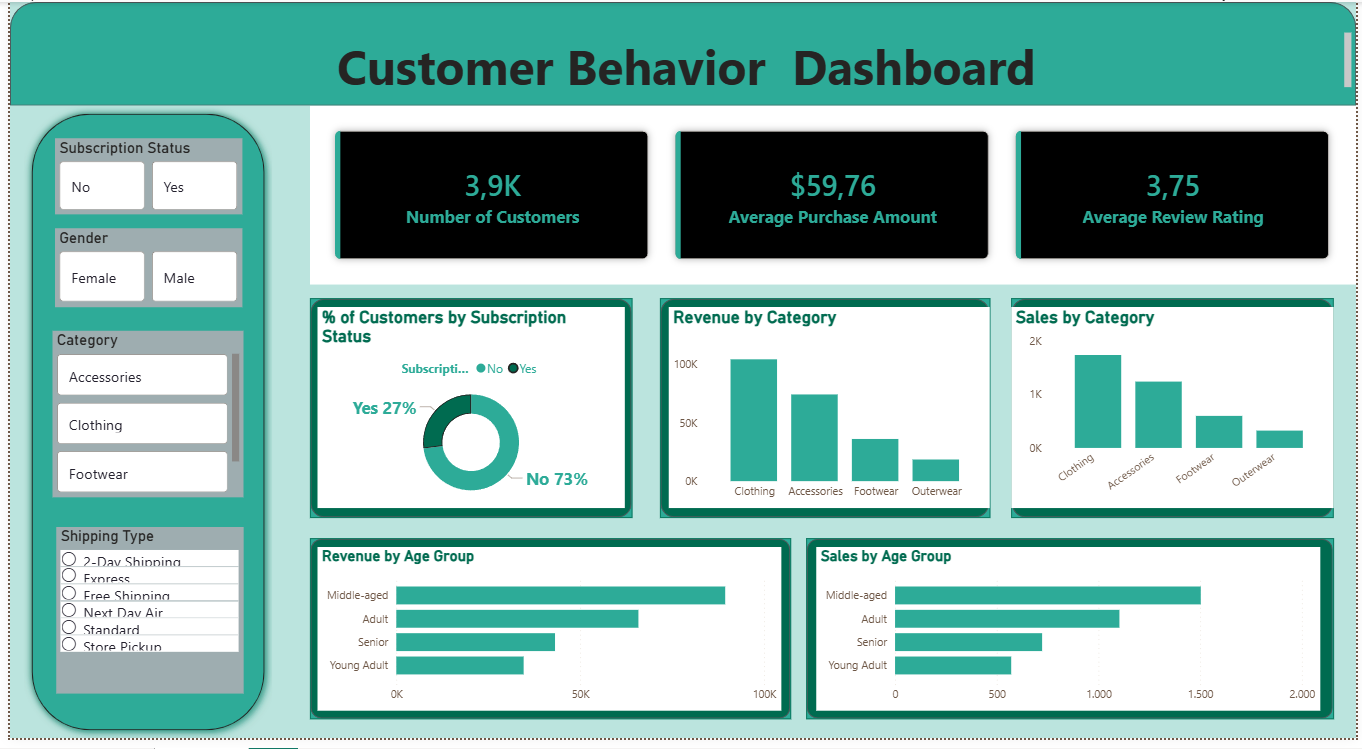

What the dashboard file says about the page in this screenshot:
{"tool":"powerbi","page":{"name":"Page 1","canvas":[1500,820],"ordinal":0},"visuals":[{"type":"cardVisual","fields":{"Data":["public customer.Number of Customers","public customer.Average Purchase Amount","public customer.Average Review Rating"]},"box":[334.2,115.6,1165.7,199.2],"z":0},{"type":"shape","box":[0,0,1499.9,115.6],"z":1000},{"type":"textbox","box":[15.3,29.2,1484.6,75.2],"z":2000},{"type":"shape","box":[334.2,330.1,359.3,245.1],"z":3000},{"type":"donutChart","title":"% of Customers by Subscription Status","fields":{"Category":["public customer.Subscription Status"],"Y":["CountNonNull(public customer.Customer ID)"]},"box":[342.6,339.8,342.6,224.2],"z":4000},{"type":"shape","box":[724.2,330.1,367.7,245.1],"z":5000},{"type":"shape","box":[1115.5,330.1,359.3,245.1],"z":6000},{"type":"clusteredColumnChart","title":"Revenue by Category","fields":{"Y":["Sum(public customer.Purchase Amount (USD))"],"Category":["public customer.Category"]},"box":[733.9,339.8,357.9,224.2],"z":7000},{"type":"clusteredColumnChart","title":"Sales by Category","fields":{"Y":["CountNonNull(public customer.Customer ID)"],"Category":["public customer.Category"]},"box":[1115.5,339.8,359.3,224.2],"z":8000},{"type":"shape","box":[15.3,115.6,277.1,704.7],"z":9000},{"type":"advancedSlicerVisual","fields":{"Values":["public customer.Gender"]},"box":[50.1,252.1,208.9,87.7],"z":10000},{"type":"listSlicer","fields":{"Values":["public customer.Shipping Type"]},"box":[51.5,584.9,208.9,185.2],"z":11000},{"type":"advancedSlicerVisual","fields":{"Values":["public customer.Category"]},"box":[47.4,366.3,213.1,185.2],"z":12000},{"type":"advancedSlicerVisual","fields":{"Values":["public customer.Subscription Status"]},"box":[50.1,151.8,208.9,85],"z":13000},{"type":"clusteredBarChart","title":"Revenue by Age Group","fields":{"Y":["Sum(public customer.Purchase Amount (USD))"],"Category":["public customer.age_group"]},"box":[384.4,607.2,437.3,182.4],"z":14000},{"type":"shape","box":[334.2,597.5,536.2,201.9],"z":15000},{"type":"shape","box":[887.1,597.5,587.7,201.9],"z":16000},{"type":"clusteredBarChart","title":"Revenue by Age Group","fields":{"Y":["Sum(public customer.Purchase Amount (USD))"],"Category":["public customer.age_group"]},"box":[342.6,607.2,516.7,182.4],"z":17000},{"type":"clusteredBarChart","title":"Sales by Age Group","fields":{"Y":["CountNonNull(public customer.Customer ID)"],"Category":["public customer.age_group"]},"box":[898.3,607.2,561.2,182.4],"z":18000}]}

Visuals, with their boxes in screenshot pixels (x1, y1, x2, y2), scaled from the page's 1500x820 canvas onto the 1362x749 screenshot:
cardVisual - public customer.Number of Customers x public customer.Average Purchase Amount: select_region(303, 106, 1361, 288)
shape: select_region(0, 0, 1361, 106)
textbox: select_region(14, 27, 1361, 95)
shape: select_region(303, 302, 630, 525)
"% of Customers by Subscription Status" donutChart: select_region(311, 310, 622, 515)
shape: select_region(658, 302, 991, 525)
shape: select_region(1013, 302, 1339, 525)
"Revenue by Category" clusteredColumnChart: select_region(666, 310, 991, 515)
"Sales by Category" clusteredColumnChart: select_region(1013, 310, 1339, 515)
shape: select_region(14, 106, 265, 748)
advancedSlicerVisual - public customer.Gender: select_region(45, 230, 235, 310)
listSlicer - public customer.Shipping Type: select_region(47, 534, 236, 703)
advancedSlicerVisual - public customer.Category: select_region(43, 335, 237, 504)
advancedSlicerVisual - public customer.Subscription Status: select_region(45, 139, 235, 216)
"Revenue by Age Group" clusteredBarChart: select_region(349, 555, 746, 721)
shape: select_region(303, 546, 790, 730)
shape: select_region(805, 546, 1339, 730)
"Revenue by Age Group" clusteredBarChart: select_region(311, 555, 780, 721)
"Sales by Age Group" clusteredBarChart: select_region(816, 555, 1325, 721)
